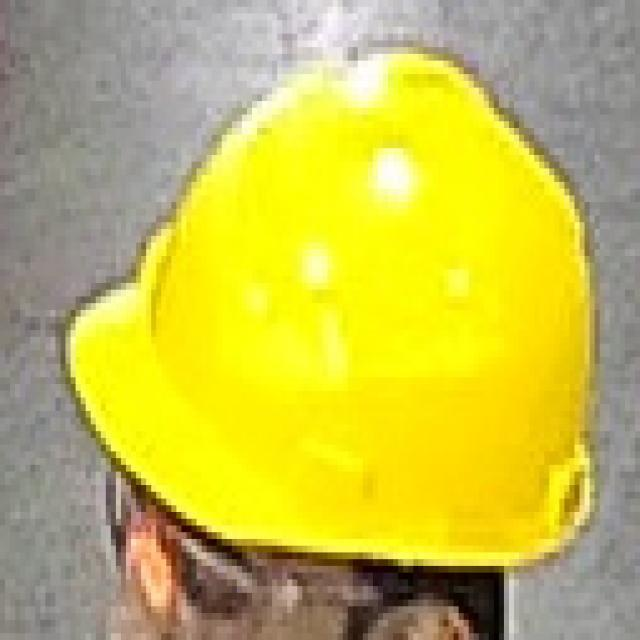yellow helmet: (57, 37, 616, 563)
